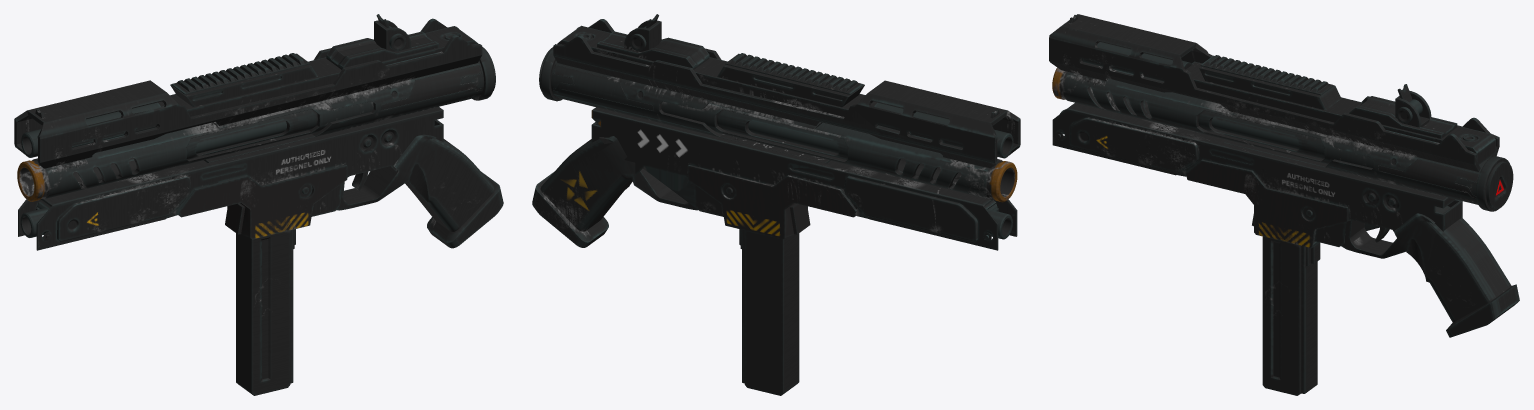
3 renders of one model, left to right at view 1: azimuth 30°, elevation 25°; view 2: azimuth 150°, elevation 25°; view 3: azimuth 330°, elevation 25°, orthographic. The views are drawn at different scales.
Parts seen in each view (by area): view 1: 立方体.016_立方体.017; view 2: 立方体.016_立方体.017; view 3: 立方体.016_立方体.017.
Part boxes in pixels (<box>): 立方体.016_立方体.017: <box>14,14,503,395</box>; 立方体.016_立方体.017: <box>532,14,1020,395</box>; 立方体.016_立方体.017: <box>1049,14,1519,395</box>.
Bounding box in the file's own units: 7.97 × 5.57 × 0.8562.
Materials: 1 (1 with a texture image).
